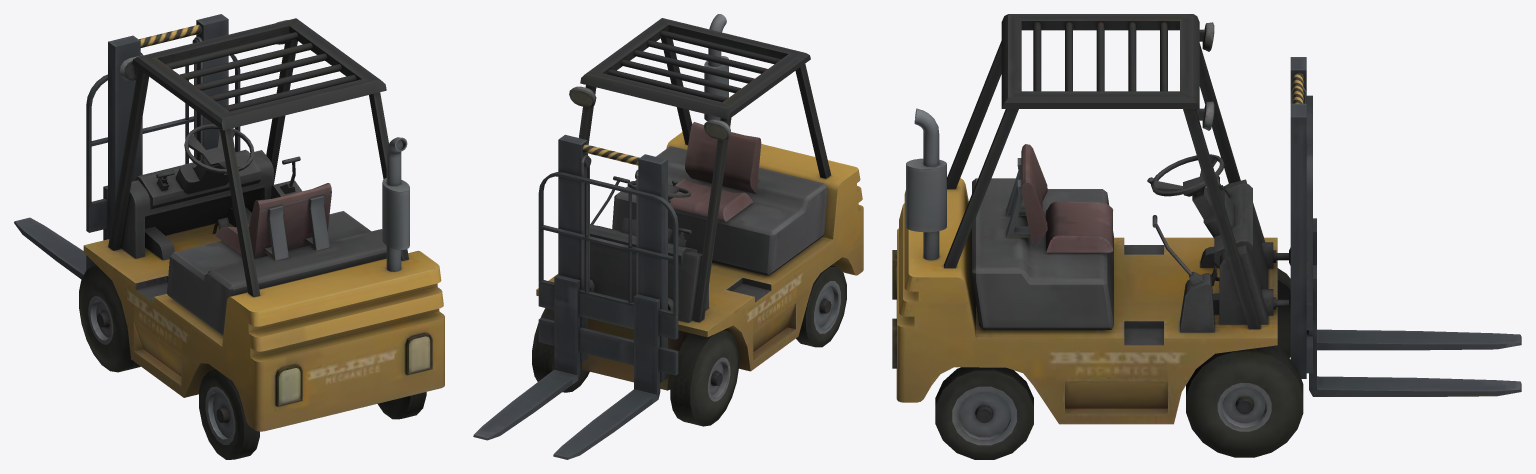
3 views of the same model, side by side, from view 1: azimuth 30°, elevation 25°; view 2: azimuth 150°, elevation 25°; view 3: azimuth 270°, elevation 25° (orthographic). The views are drawn at different scales.
Visible parts, largest first — view 1: body0_model0_lod0_mesh0; view 2: body0_model0_lod0_mesh0; view 3: body0_model0_lod0_mesh0.
Boxes of the visible parts, bbox=[...] form: body0_model0_lod0_mesh0: bbox=[14, 14, 444, 459]; body0_model0_lod0_mesh0: bbox=[473, 14, 863, 459]; body0_model0_lod0_mesh0: bbox=[892, 14, 1521, 459].
Bounding box in the file's own units: 75.97 × 125 × 201.
1 material, 1 textured.
